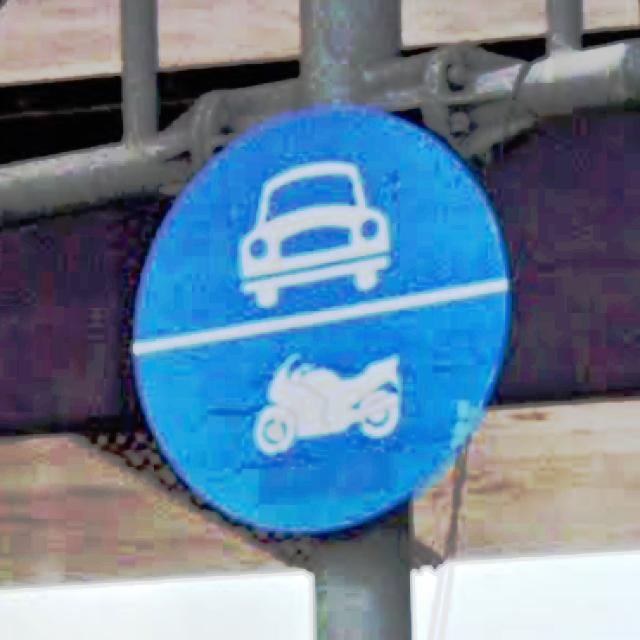carmotorcycle: (133, 107, 510, 534)
